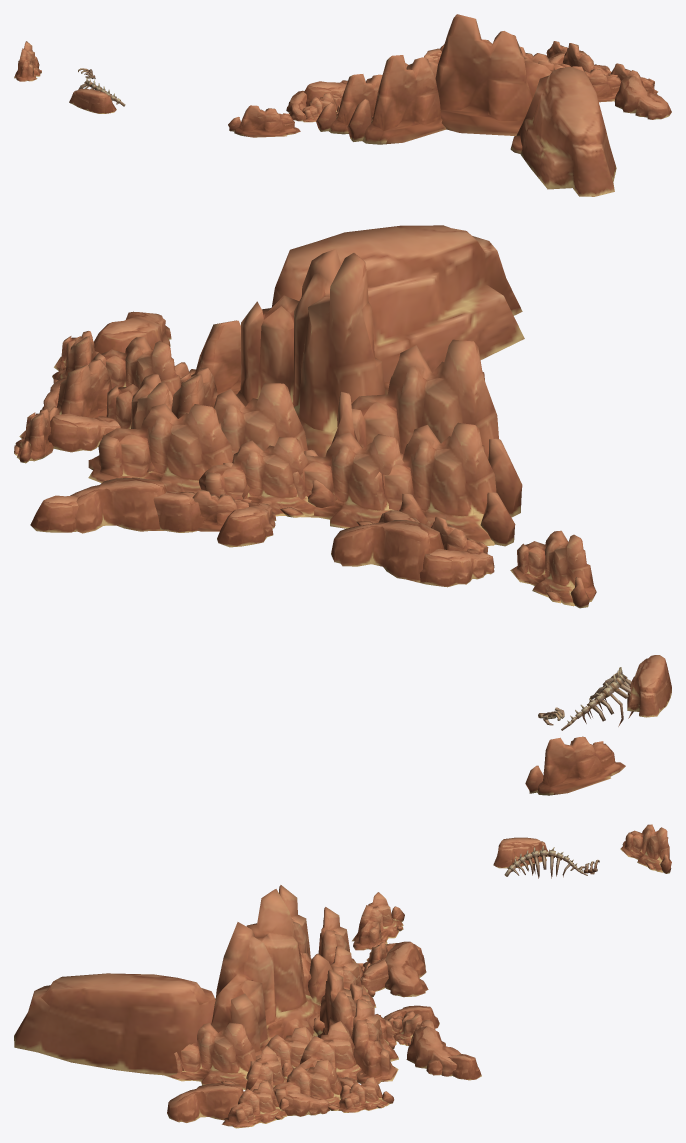
The model's file is rock_red05.fbx.
3 renders of one model, top to bottom at view 1: azimuth 30°, elevation 25°; view 2: azimuth 150°, elevation 25°; view 3: azimuth 270°, elevation 25°, orthographic. The views are drawn at different scales.
Parts seen in each view (by area): view 1: rock_red05; view 2: rock_red05; view 3: rock_red05.
Part boxes in pixels (<box>): rock_red05: <box>14,14,671,196</box>; rock_red05: <box>14,225,671,795</box>; rock_red05: <box>14,824,671,1128</box>.
Size of the model in its own units: 15145 by 3440 by 15153.
1 material, 1 textured.
